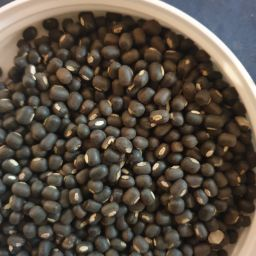Black Gram(urad daal): (15, 21, 256, 213), (7, 60, 250, 219), (94, 45, 217, 256), (1, 77, 86, 256)
